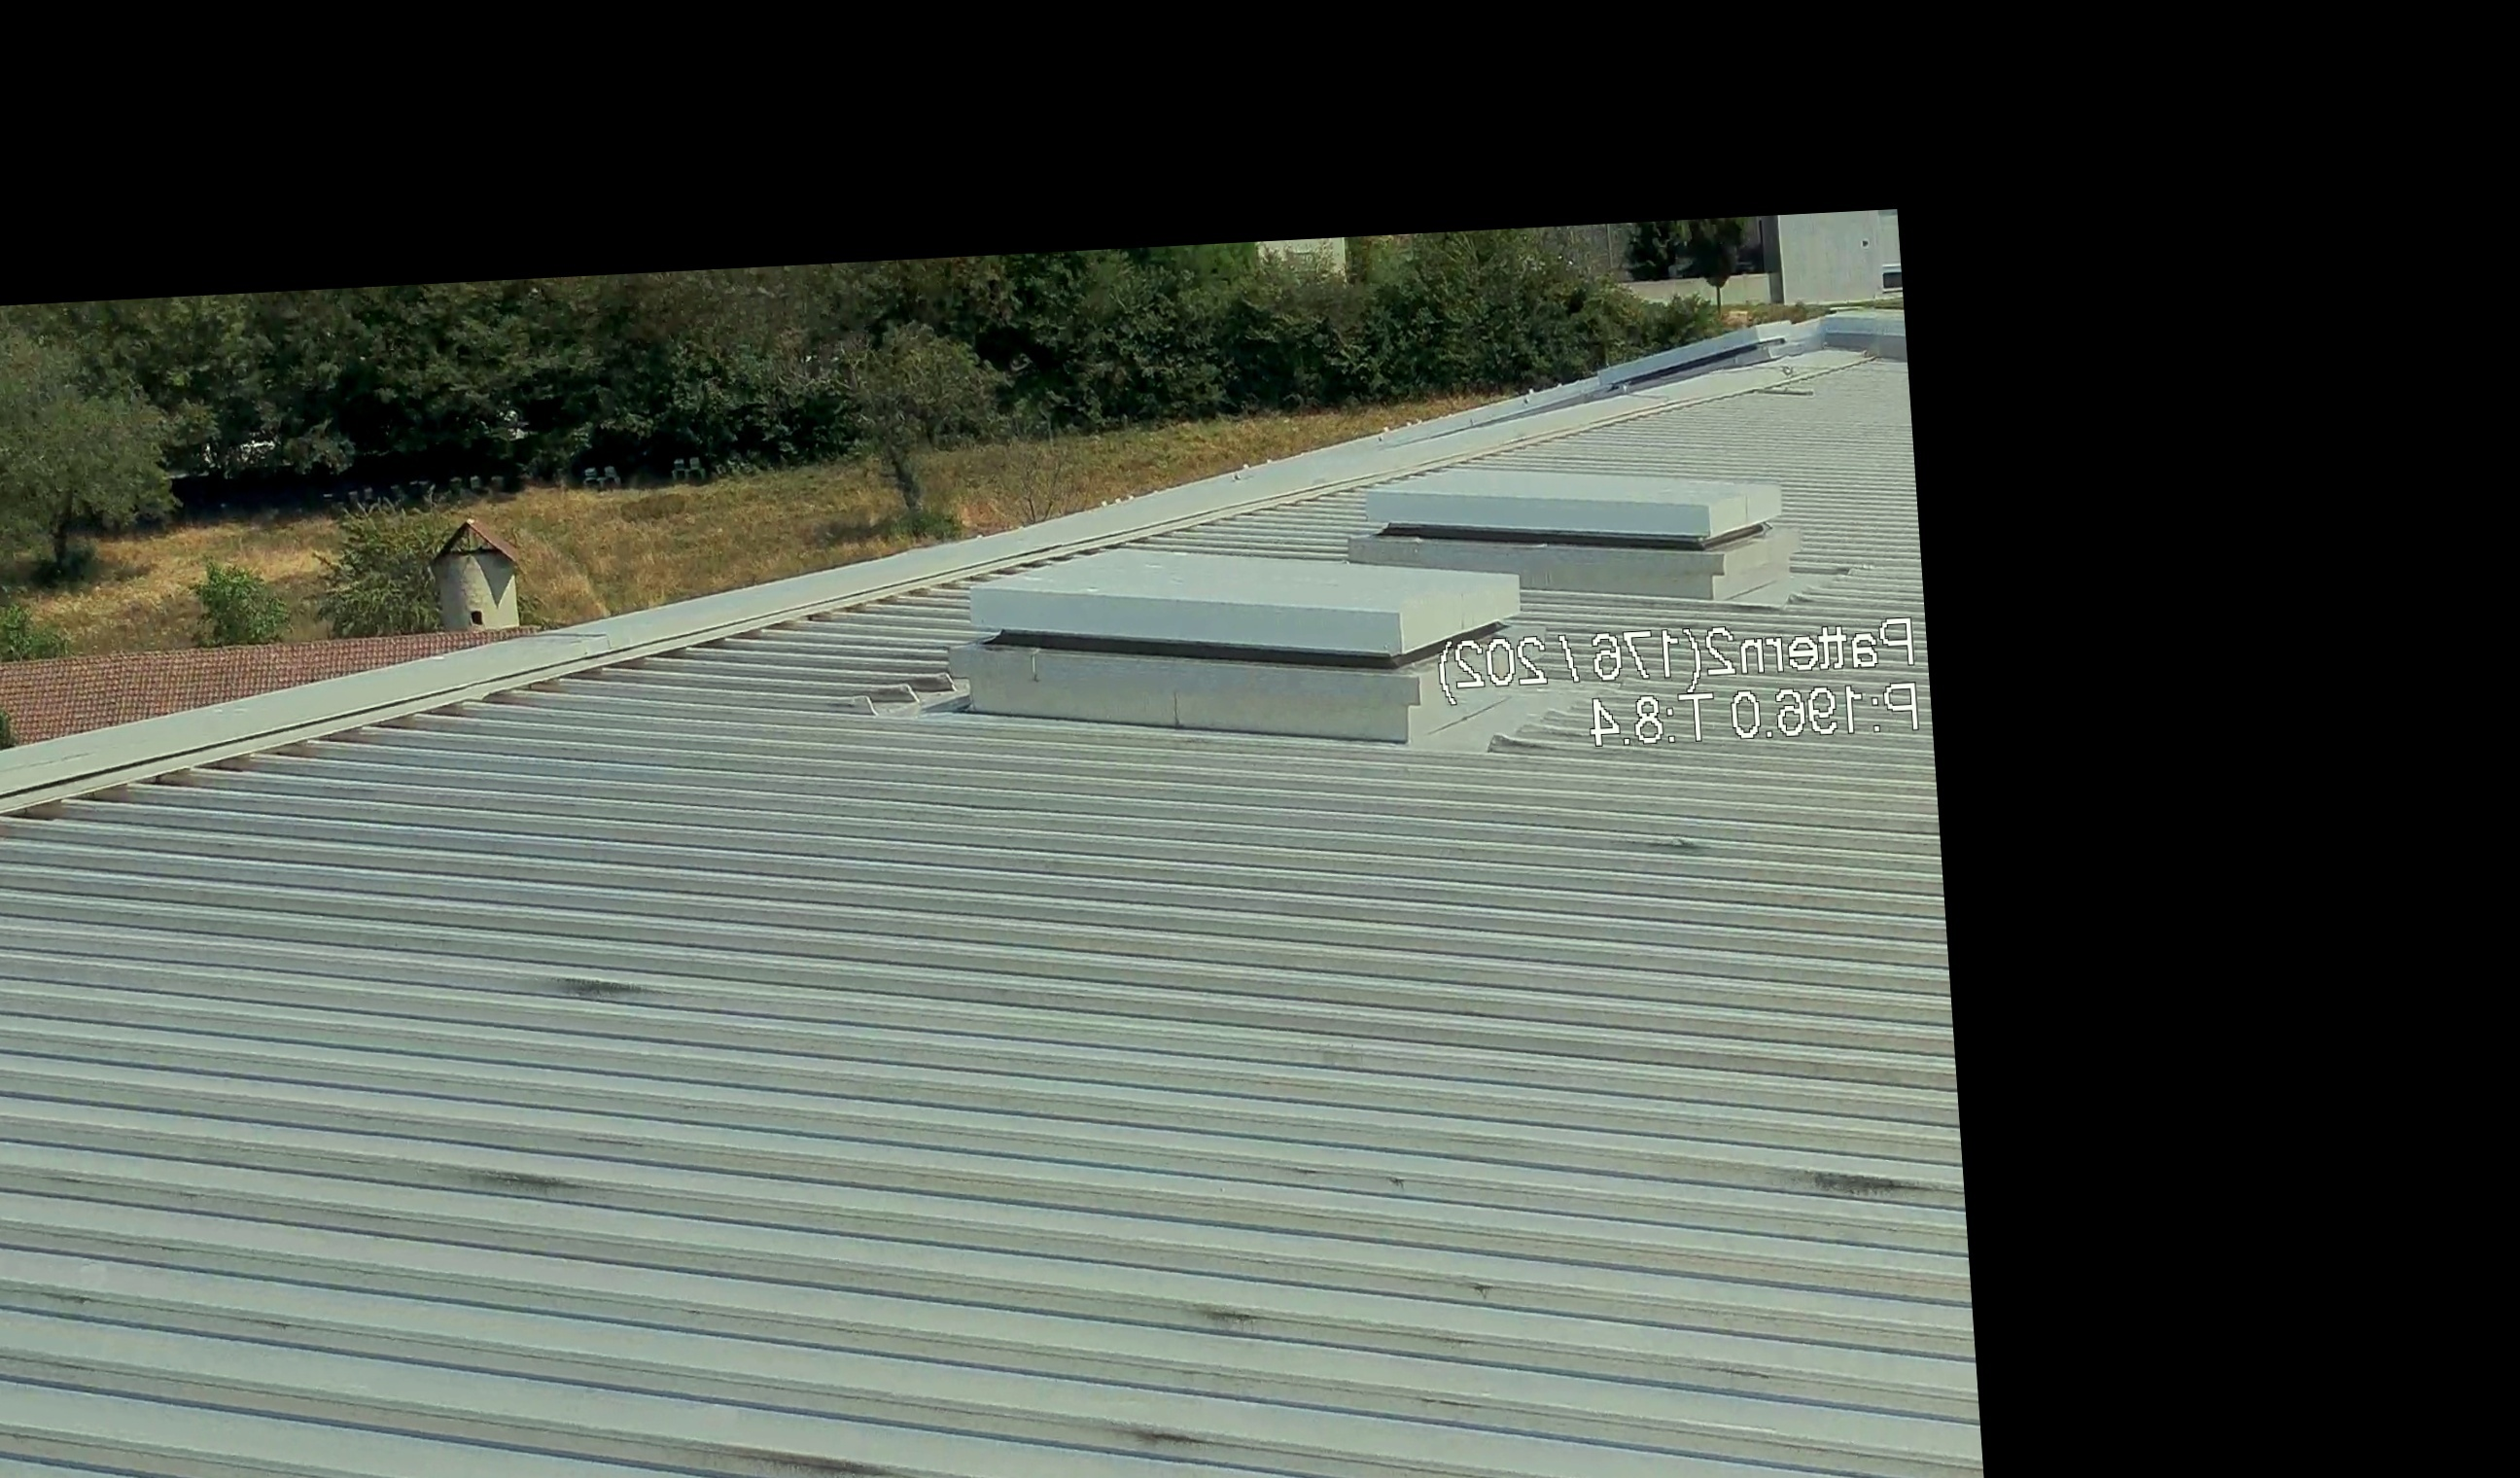Other: (394, 500, 526, 642)
